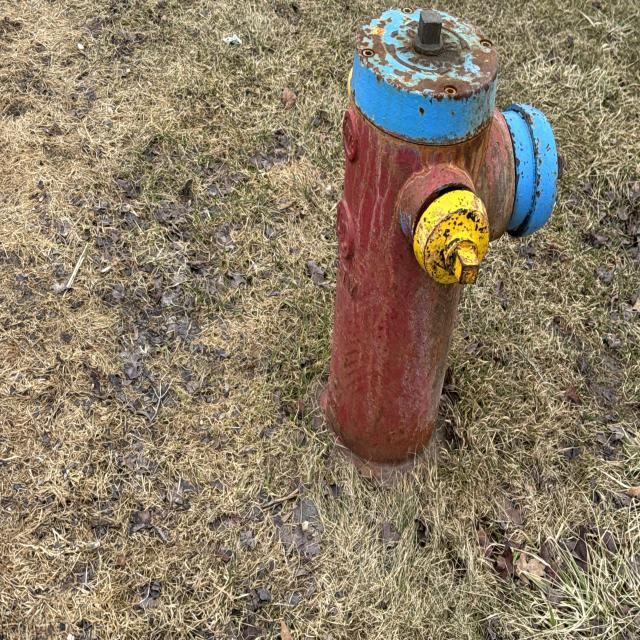Fire hydrant: (306, 5, 560, 489)
